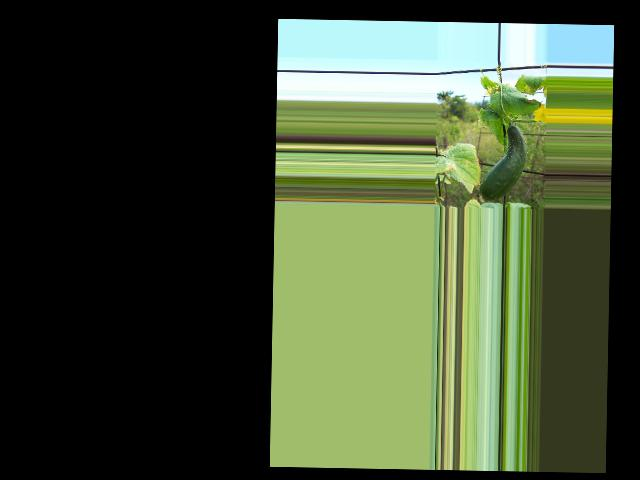cucumber: (479, 123, 527, 201)
